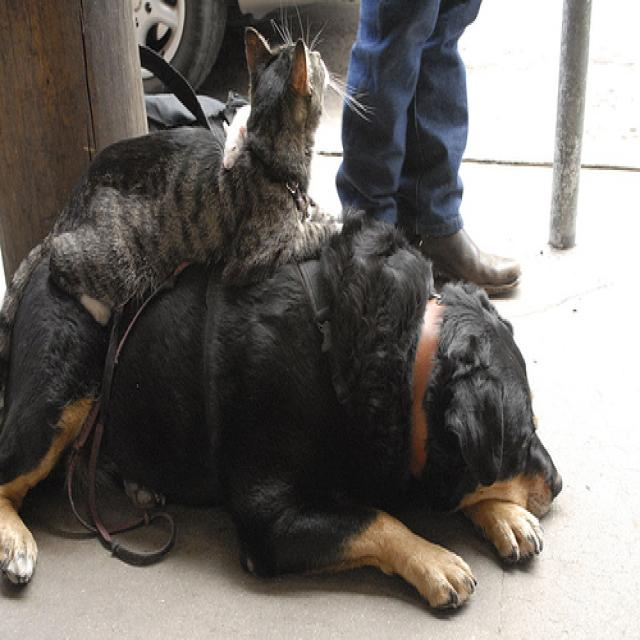Vehicle: (132, 0, 330, 96)
